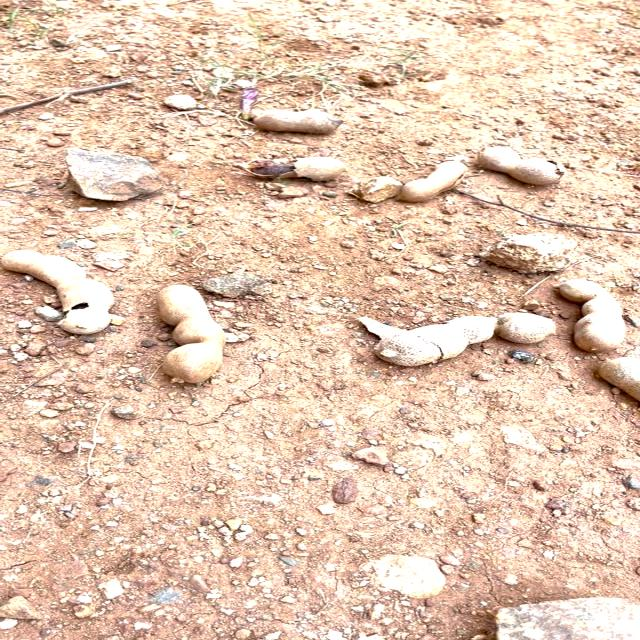tamarind: (382, 310, 554, 372), (3, 245, 124, 330), (158, 282, 224, 382), (554, 280, 628, 351), (479, 145, 565, 185), (400, 159, 471, 204), (241, 153, 352, 181), (250, 105, 344, 134)
